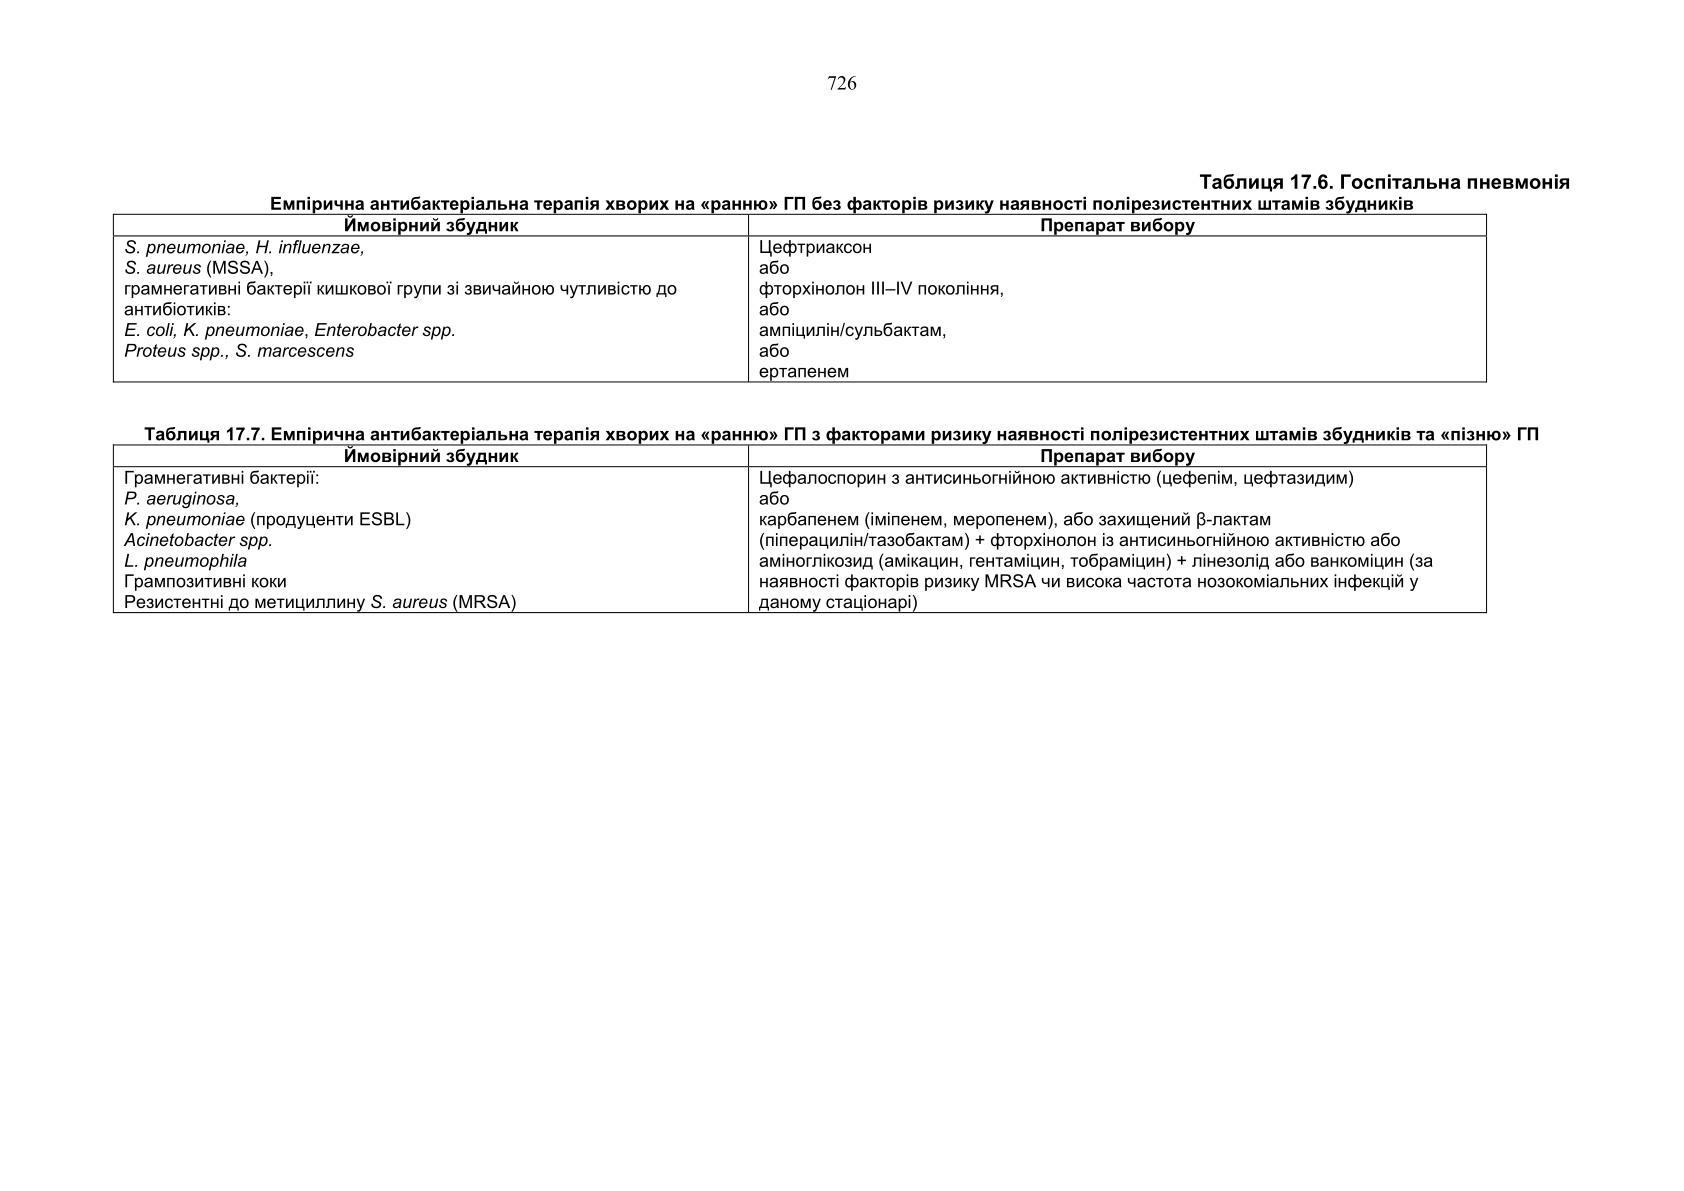full_lined: (108, 438, 1495, 621), (110, 213, 1495, 388)
